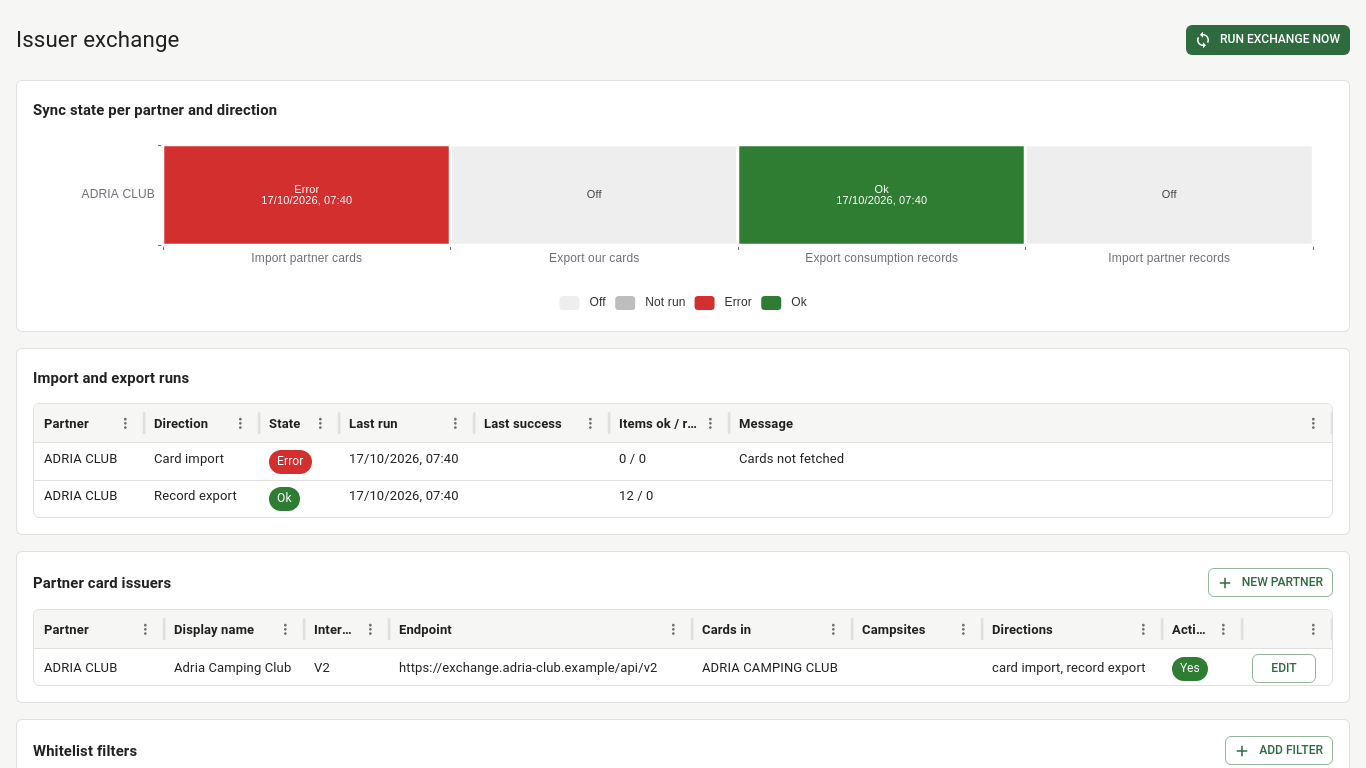
it: issuer exchange tab › saves a new partner with its groups and directions
Click the button with test id "new-partner" at (1270, 583), box [1208,568,1333,597]
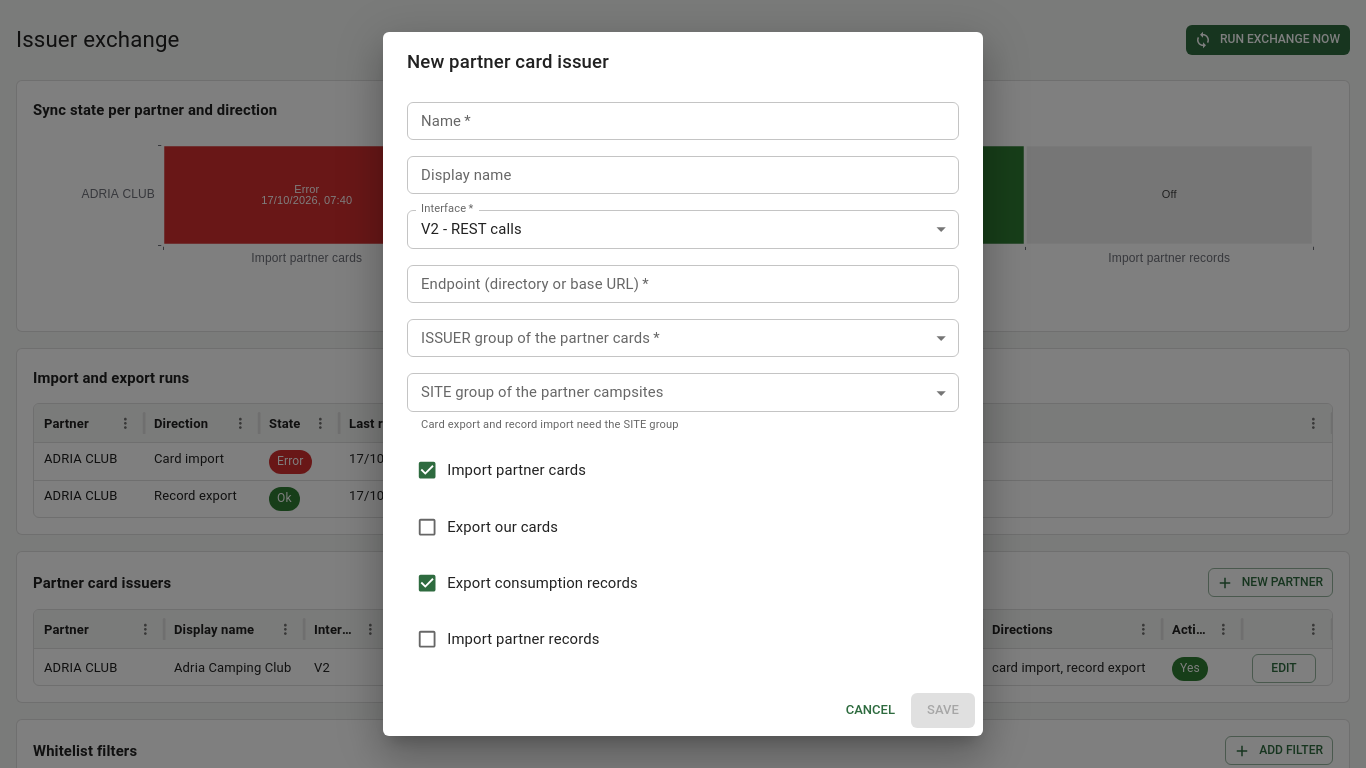
Type "ALPINE CLUB" into the field labelled "Name *" at (683, 121), box [407,102,959,140]
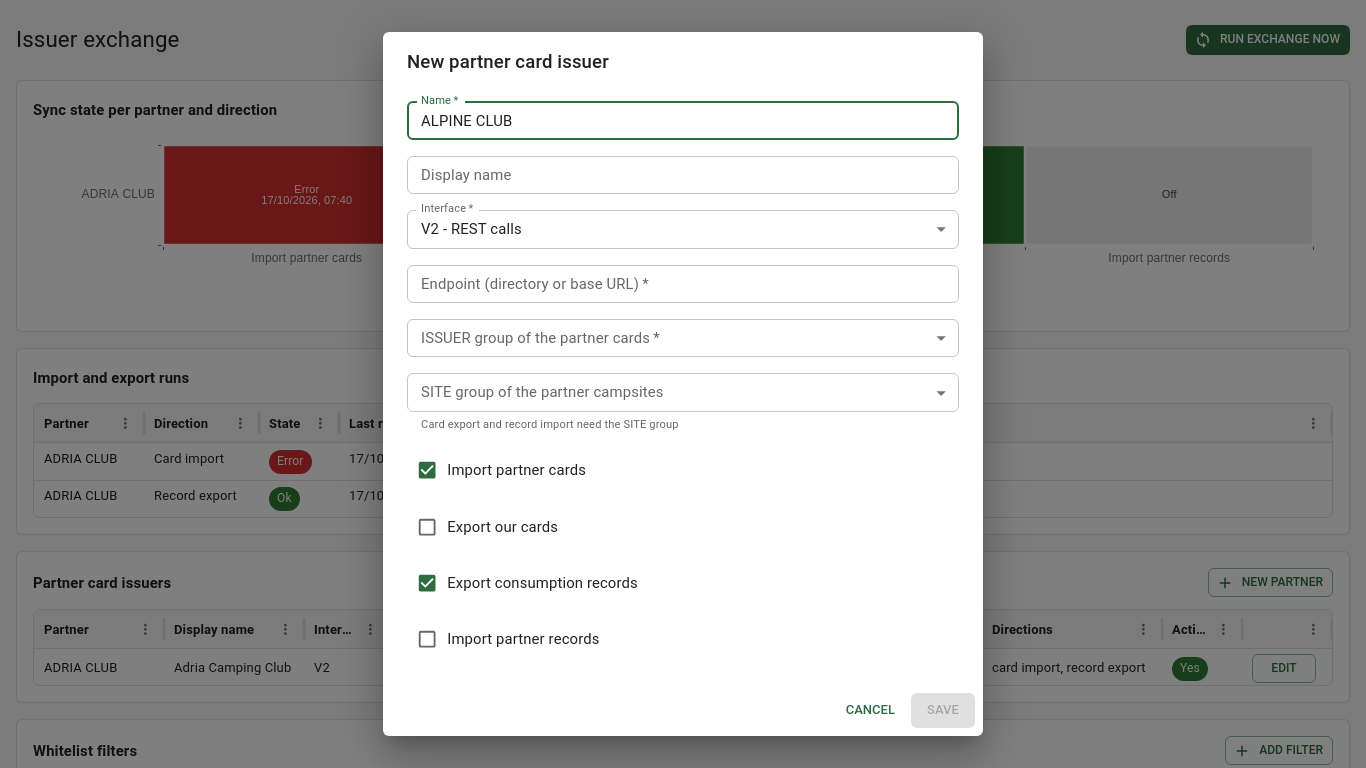
Type "/data/exchange/alpine" into the field labelled "Endpoint (directory or base URL) *" at (683, 284), box [407,265,959,303]
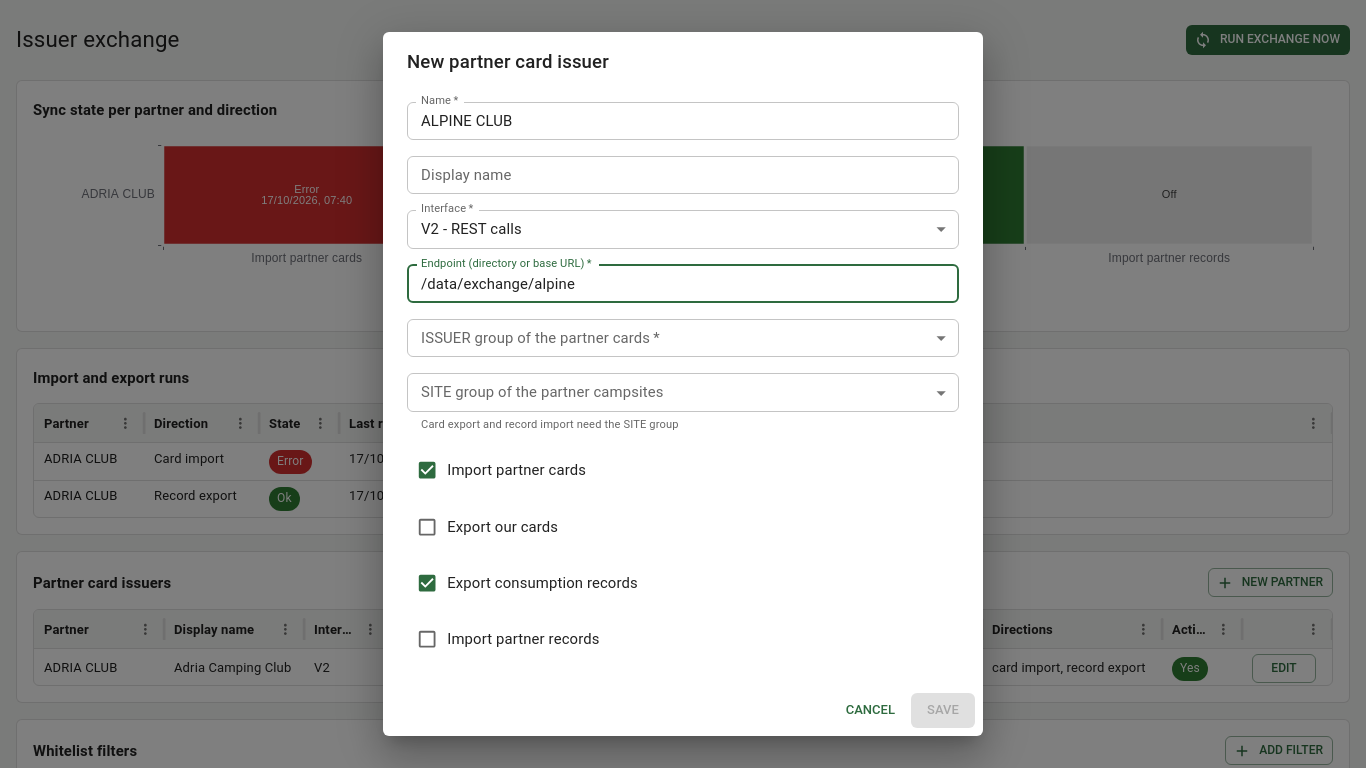
Click the dropdown named "ISSUER group" next to "ISSUER group of the partner cards" at (683, 338), box [407,319,959,358]
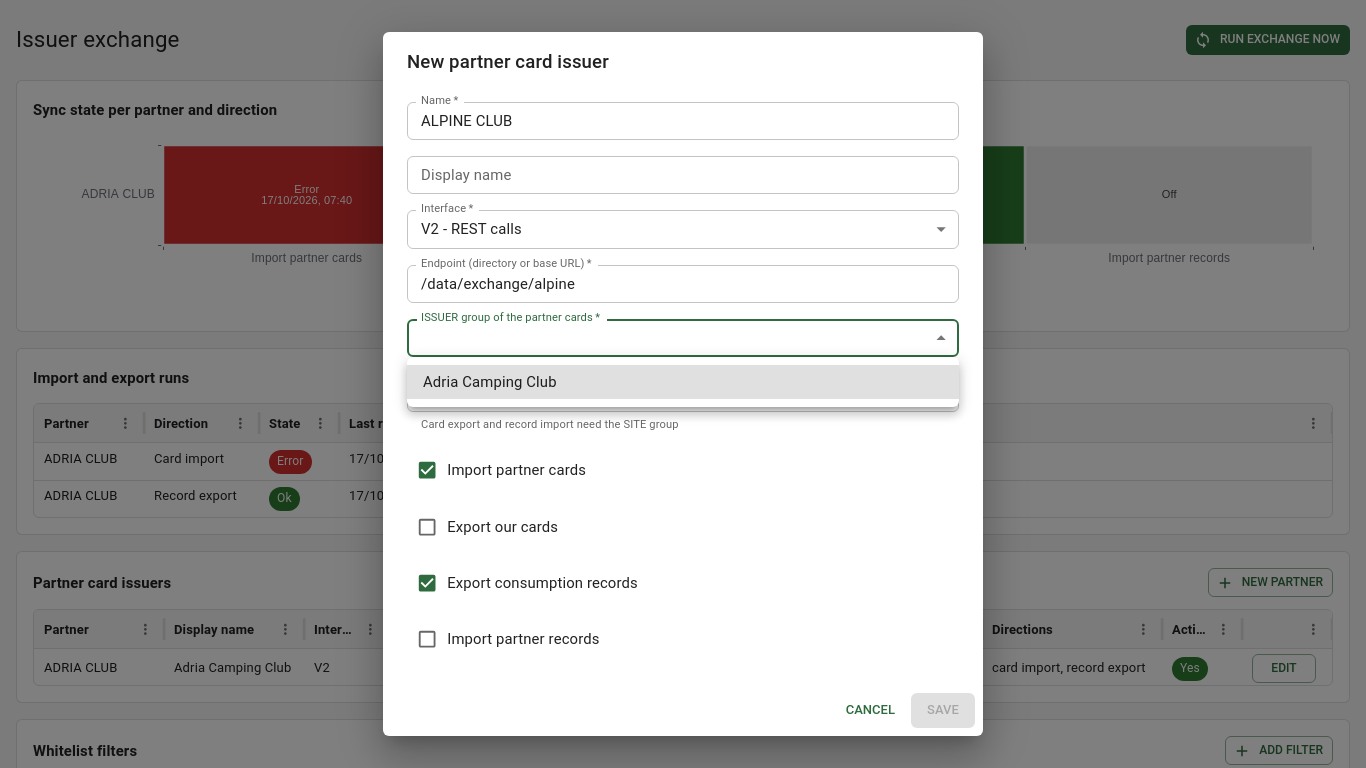
Click the option "Adria Camping Club" at (490, 382), box [407,365,959,399]
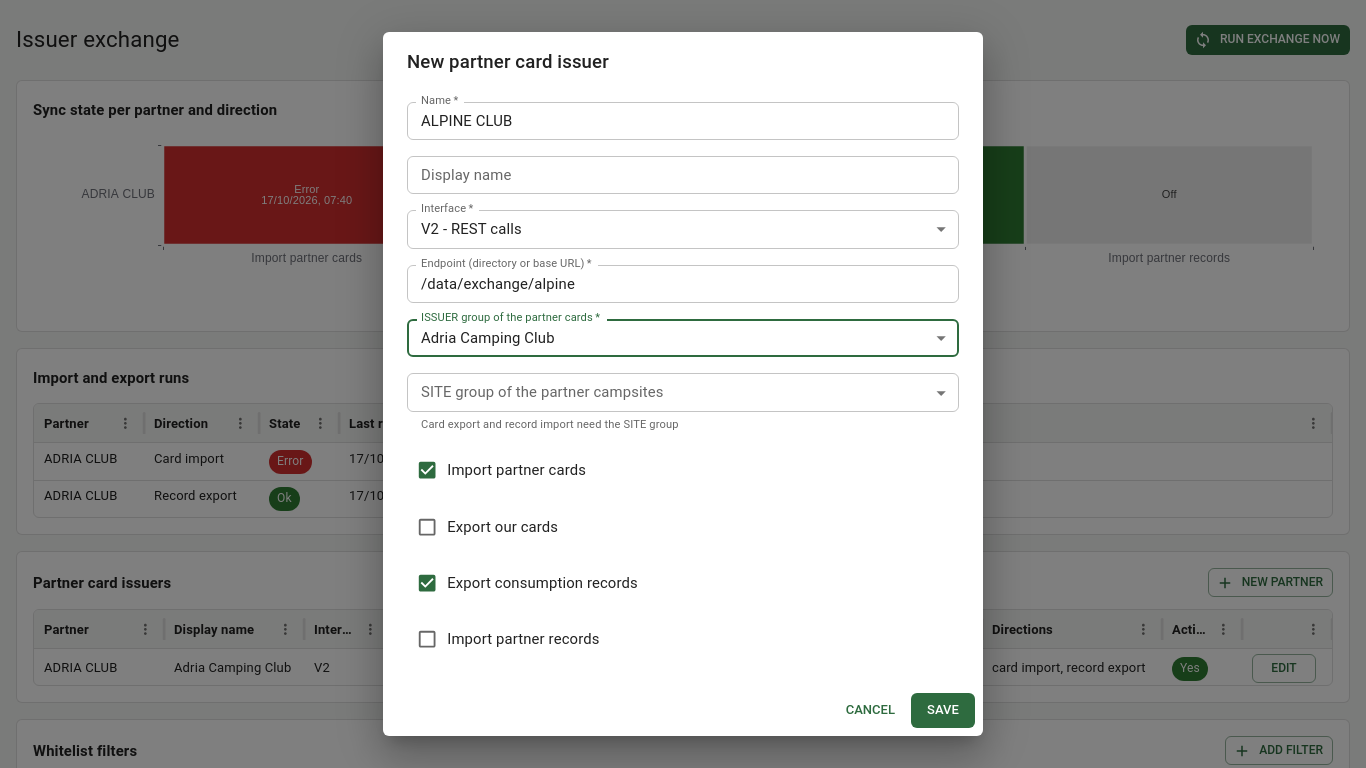
Click the button "Save" at (943, 711), box [911,693,975,728]
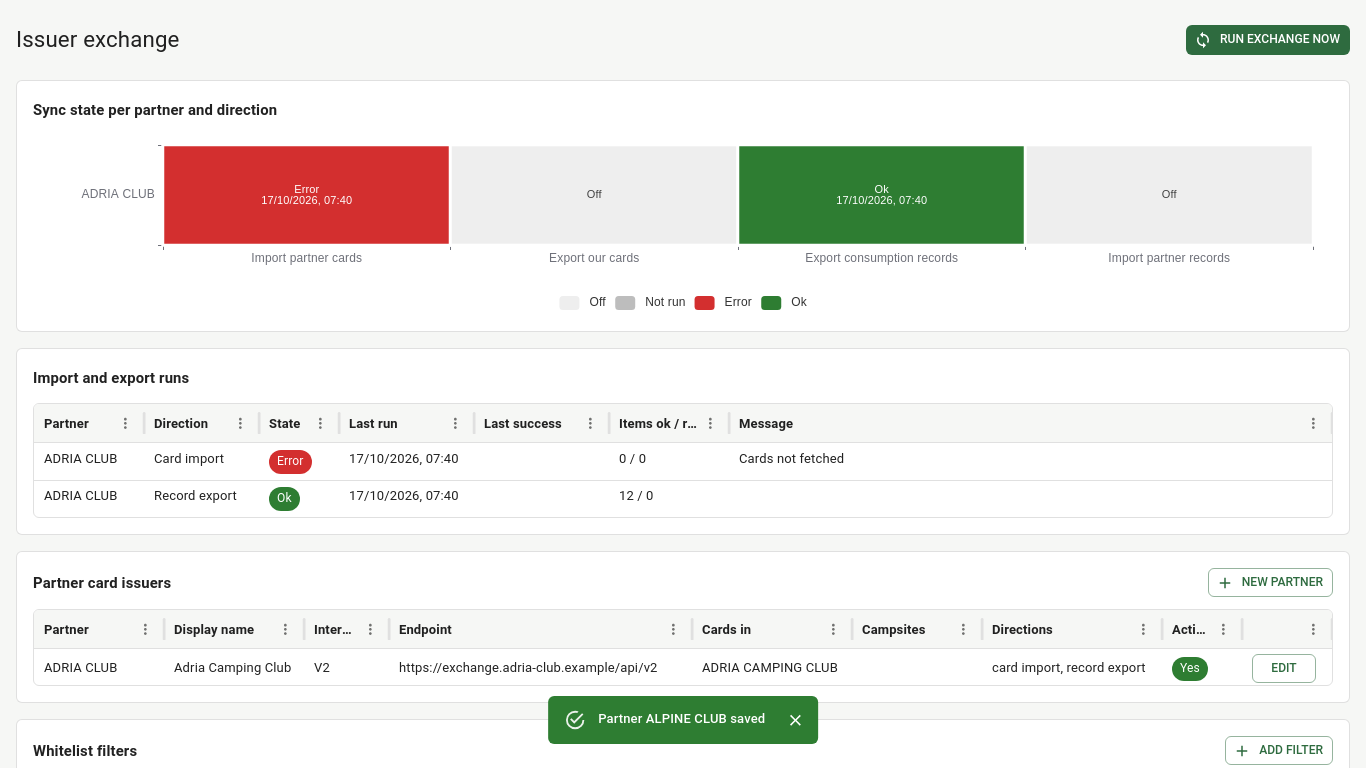
Expected: the message with test id "notification" reads "Partner ALPINE CLUB saved", [598,711,765,726]
